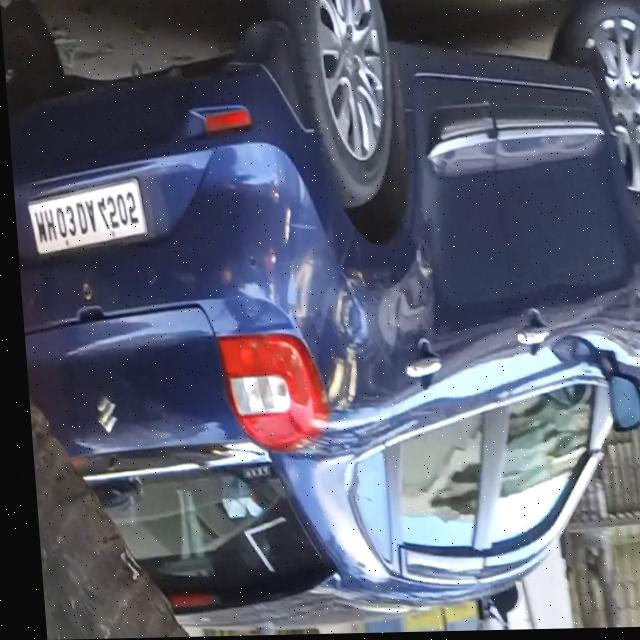plate: (18, 167, 152, 264)
